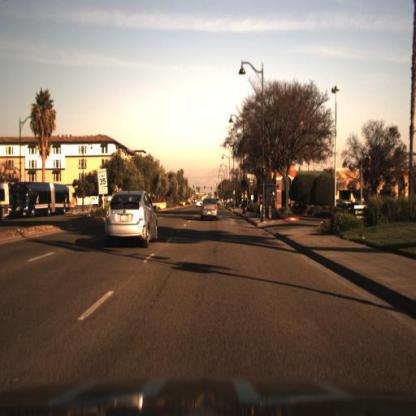car: (108, 190, 163, 246), (198, 193, 223, 226)
pedestrian: (258, 188, 265, 224), (271, 188, 279, 216)
truck: (3, 181, 73, 223)
